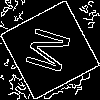M: (25, 25, 81, 78)
